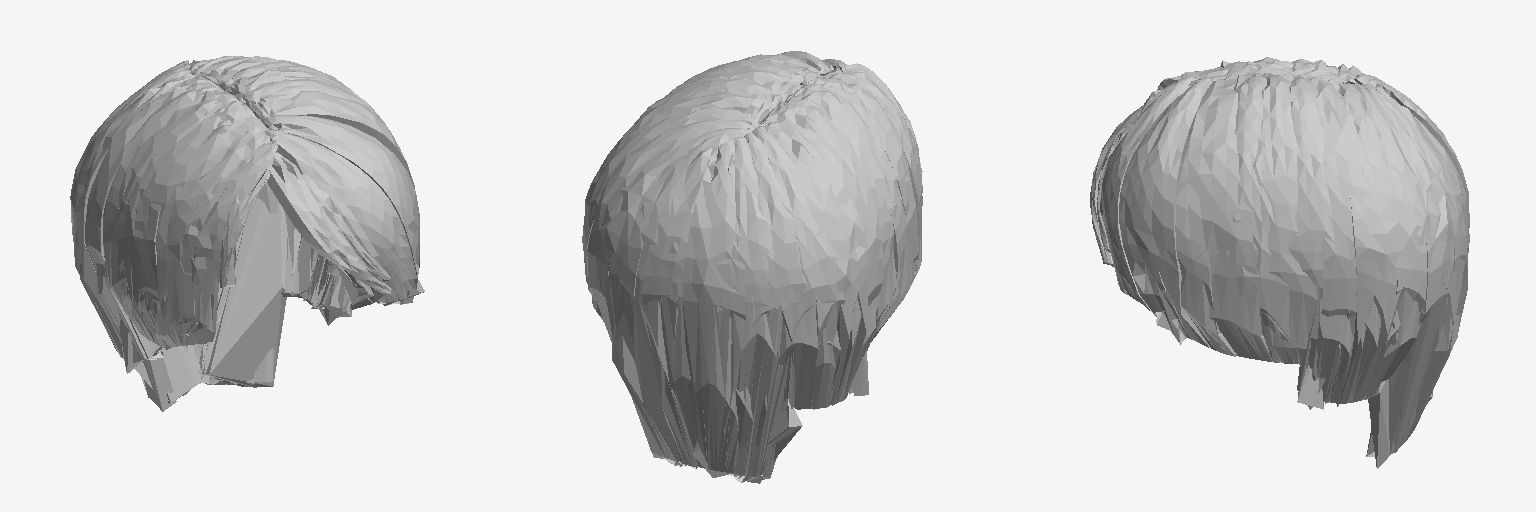
3 views of the same model, side by side, from view 1: azimuth 30°, elevation 25°; view 2: azimuth 150°, elevation 25°; view 3: azimuth 270°, elevation 25° (orthographic).
Visible parts, largest first — view 1: Item_0; view 2: Item_0; view 3: Item_0.
Part boxes in pixels (bbox=[...]): Item_0: bbox=[70, 56, 424, 411]; Item_0: bbox=[582, 51, 922, 483]; Item_0: bbox=[1090, 57, 1469, 468].
Size of the model in its own units: 0.0949 by 0.1209 by 0.1144.